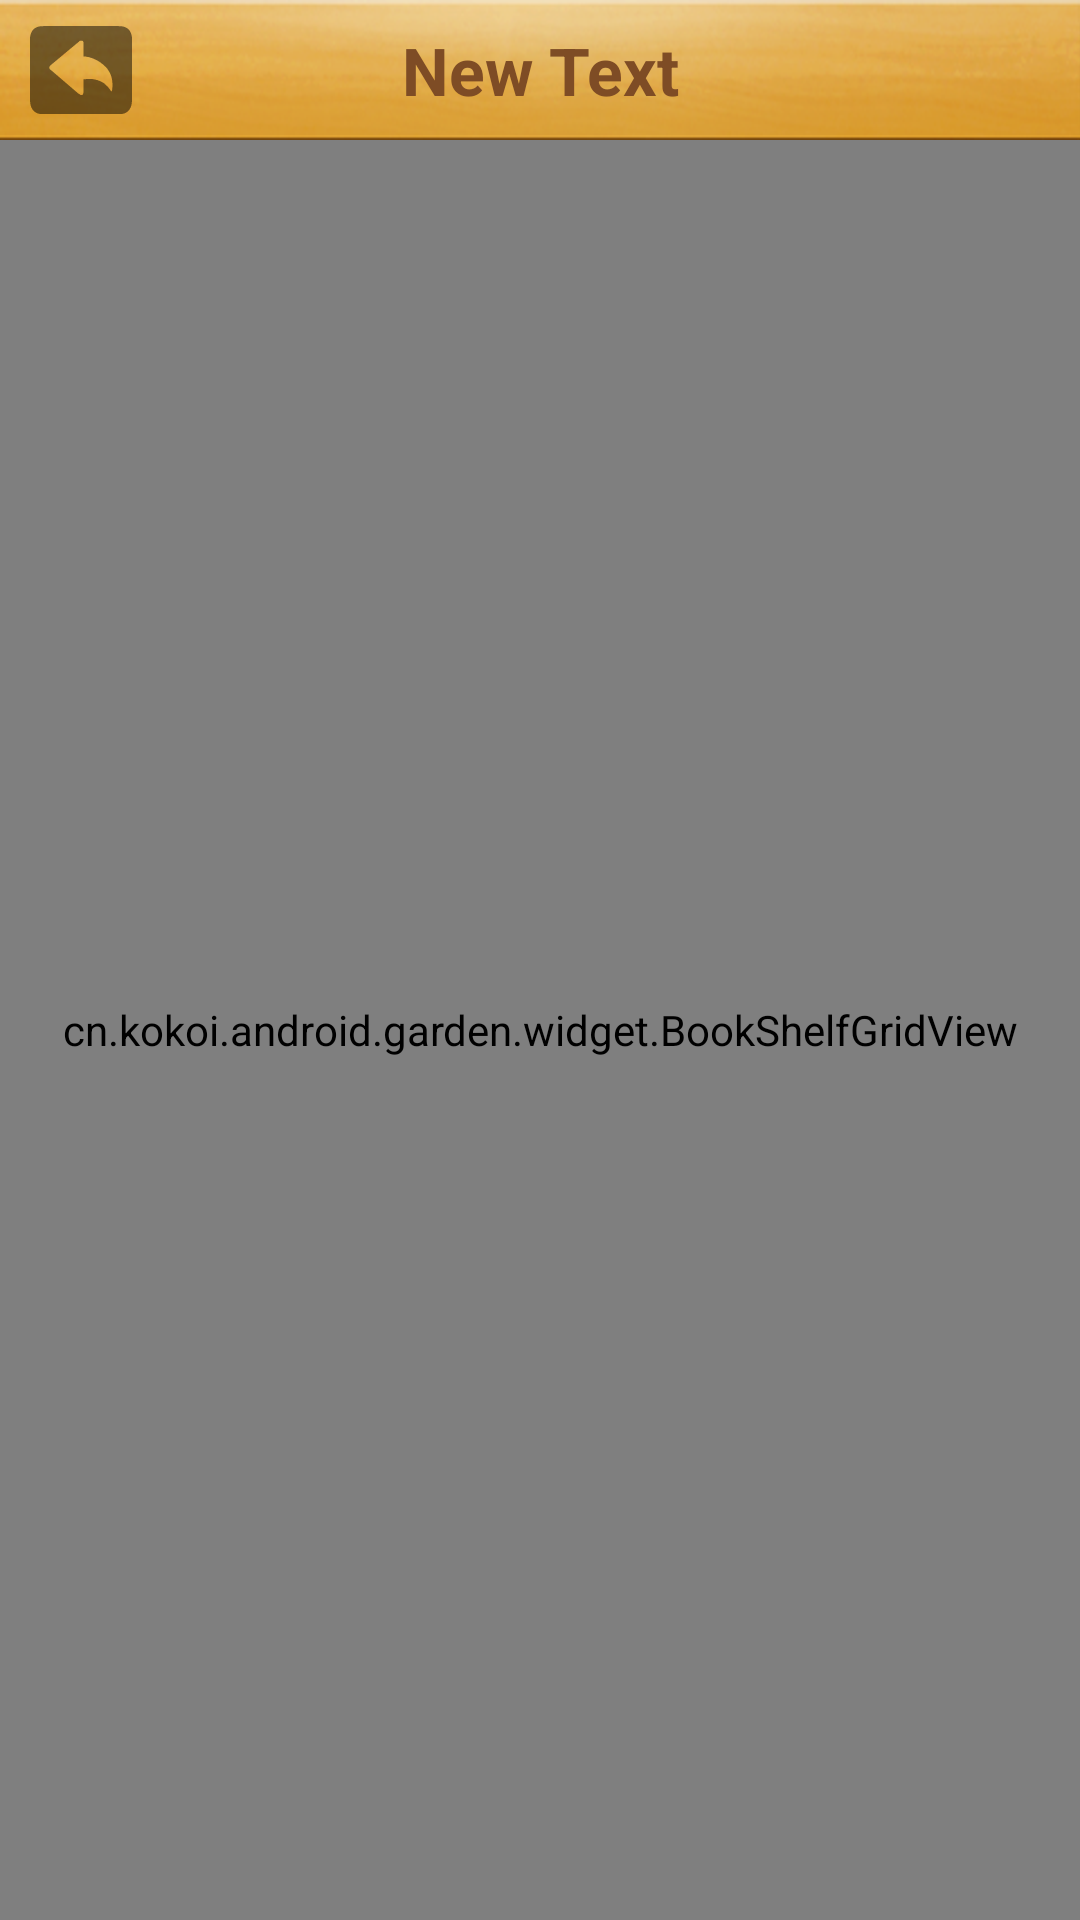

Where to tap for icons on this 1080 × 1920 app screen, as (x=x, y=y):
back: (x=81, y=70)
